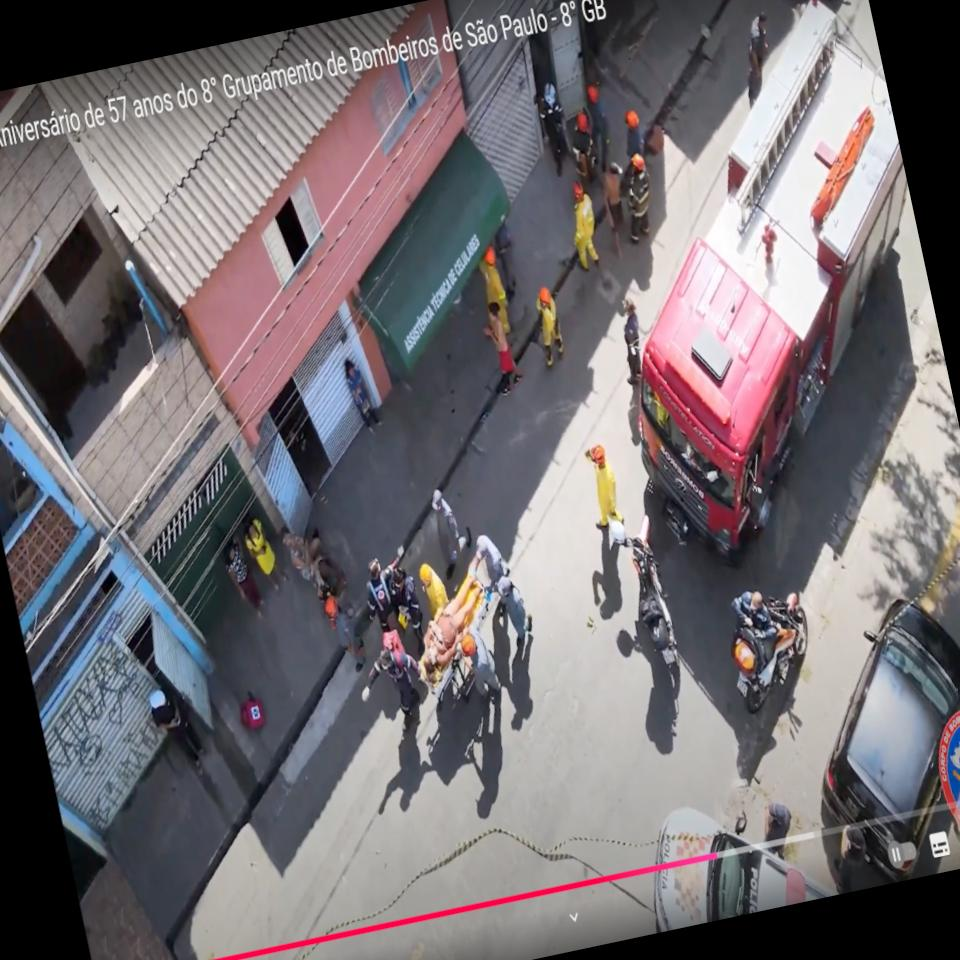viatura: (553, 0, 960, 578)
